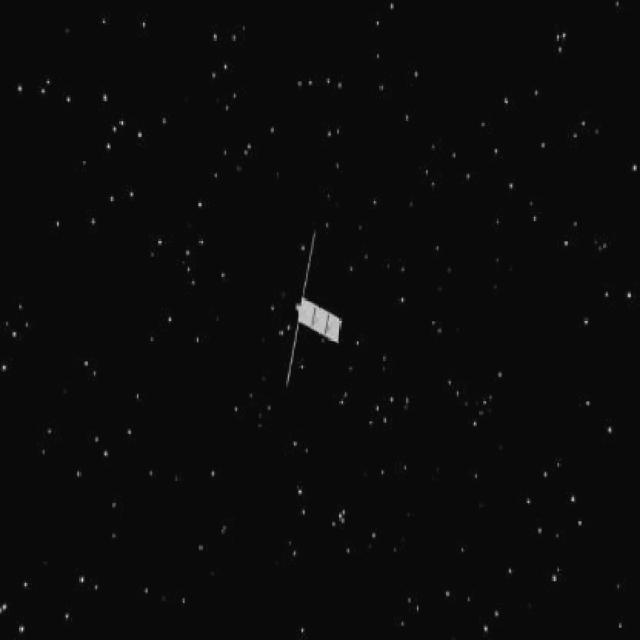satellite: (271, 223, 353, 402)
